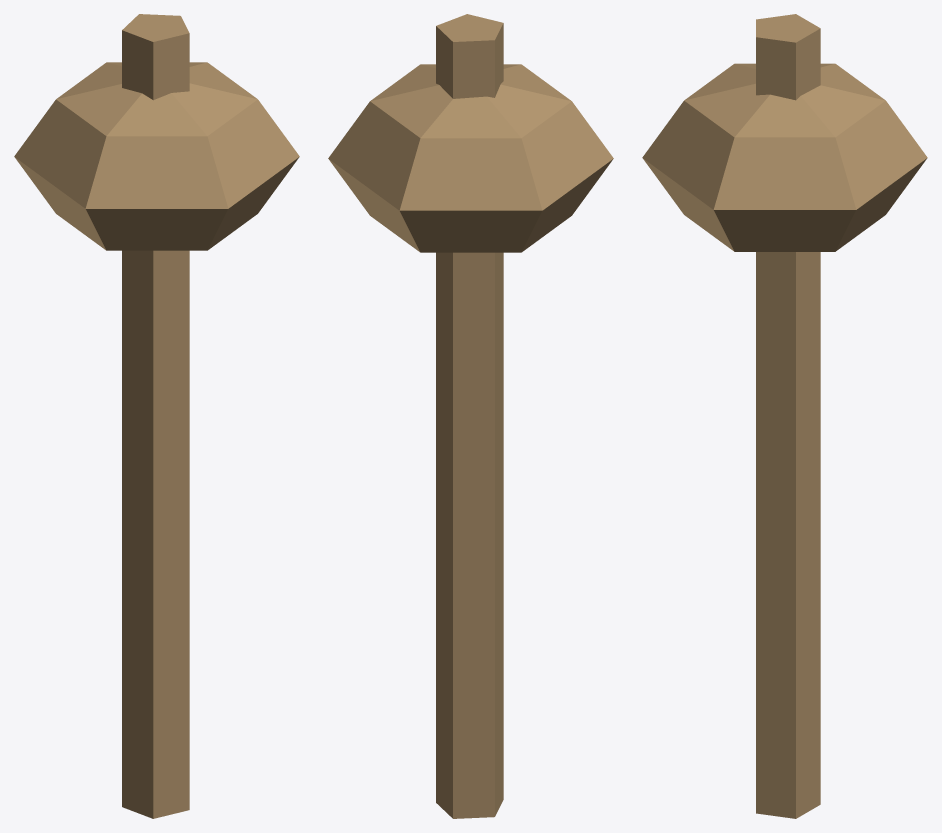
The model's file is ladle.glb.
The picture shows the model from 3 angles, left to right: view 1: azimuth 30°, elevation 25°; view 2: azimuth 150°, elevation 25°; view 3: azimuth 270°, elevation 25°; orthographic projection.
Parts seen in each view (by area): view 1: cyl, sphere; view 2: cyl, sphere; view 3: cyl, sphere.
Part boxes in pixels (<box>): cyl: <box>122,14,189,818</box>; sphere: <box>14,62,299,250</box>; cyl: <box>436,14,503,818</box>; sphere: <box>328,64,613,252</box>; cyl: <box>756,14,820,818</box>; sphere: <box>642,63,927,251</box>.
Bounding box in the file's own units: 0.0693 × 0.24 × 0.08.
